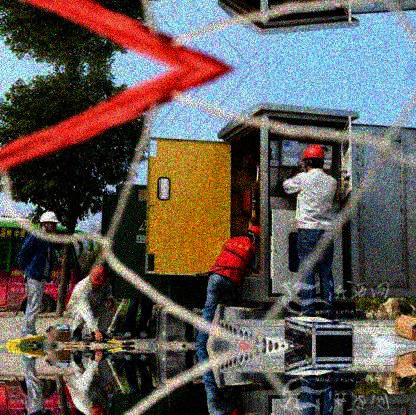helmet: (303, 145, 326, 171), (38, 209, 59, 234), (91, 264, 107, 291)
